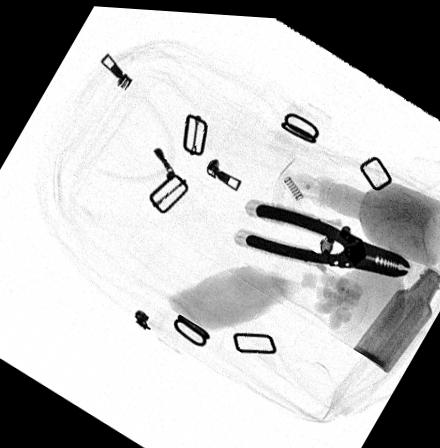Pliers: (243, 197, 410, 272)
